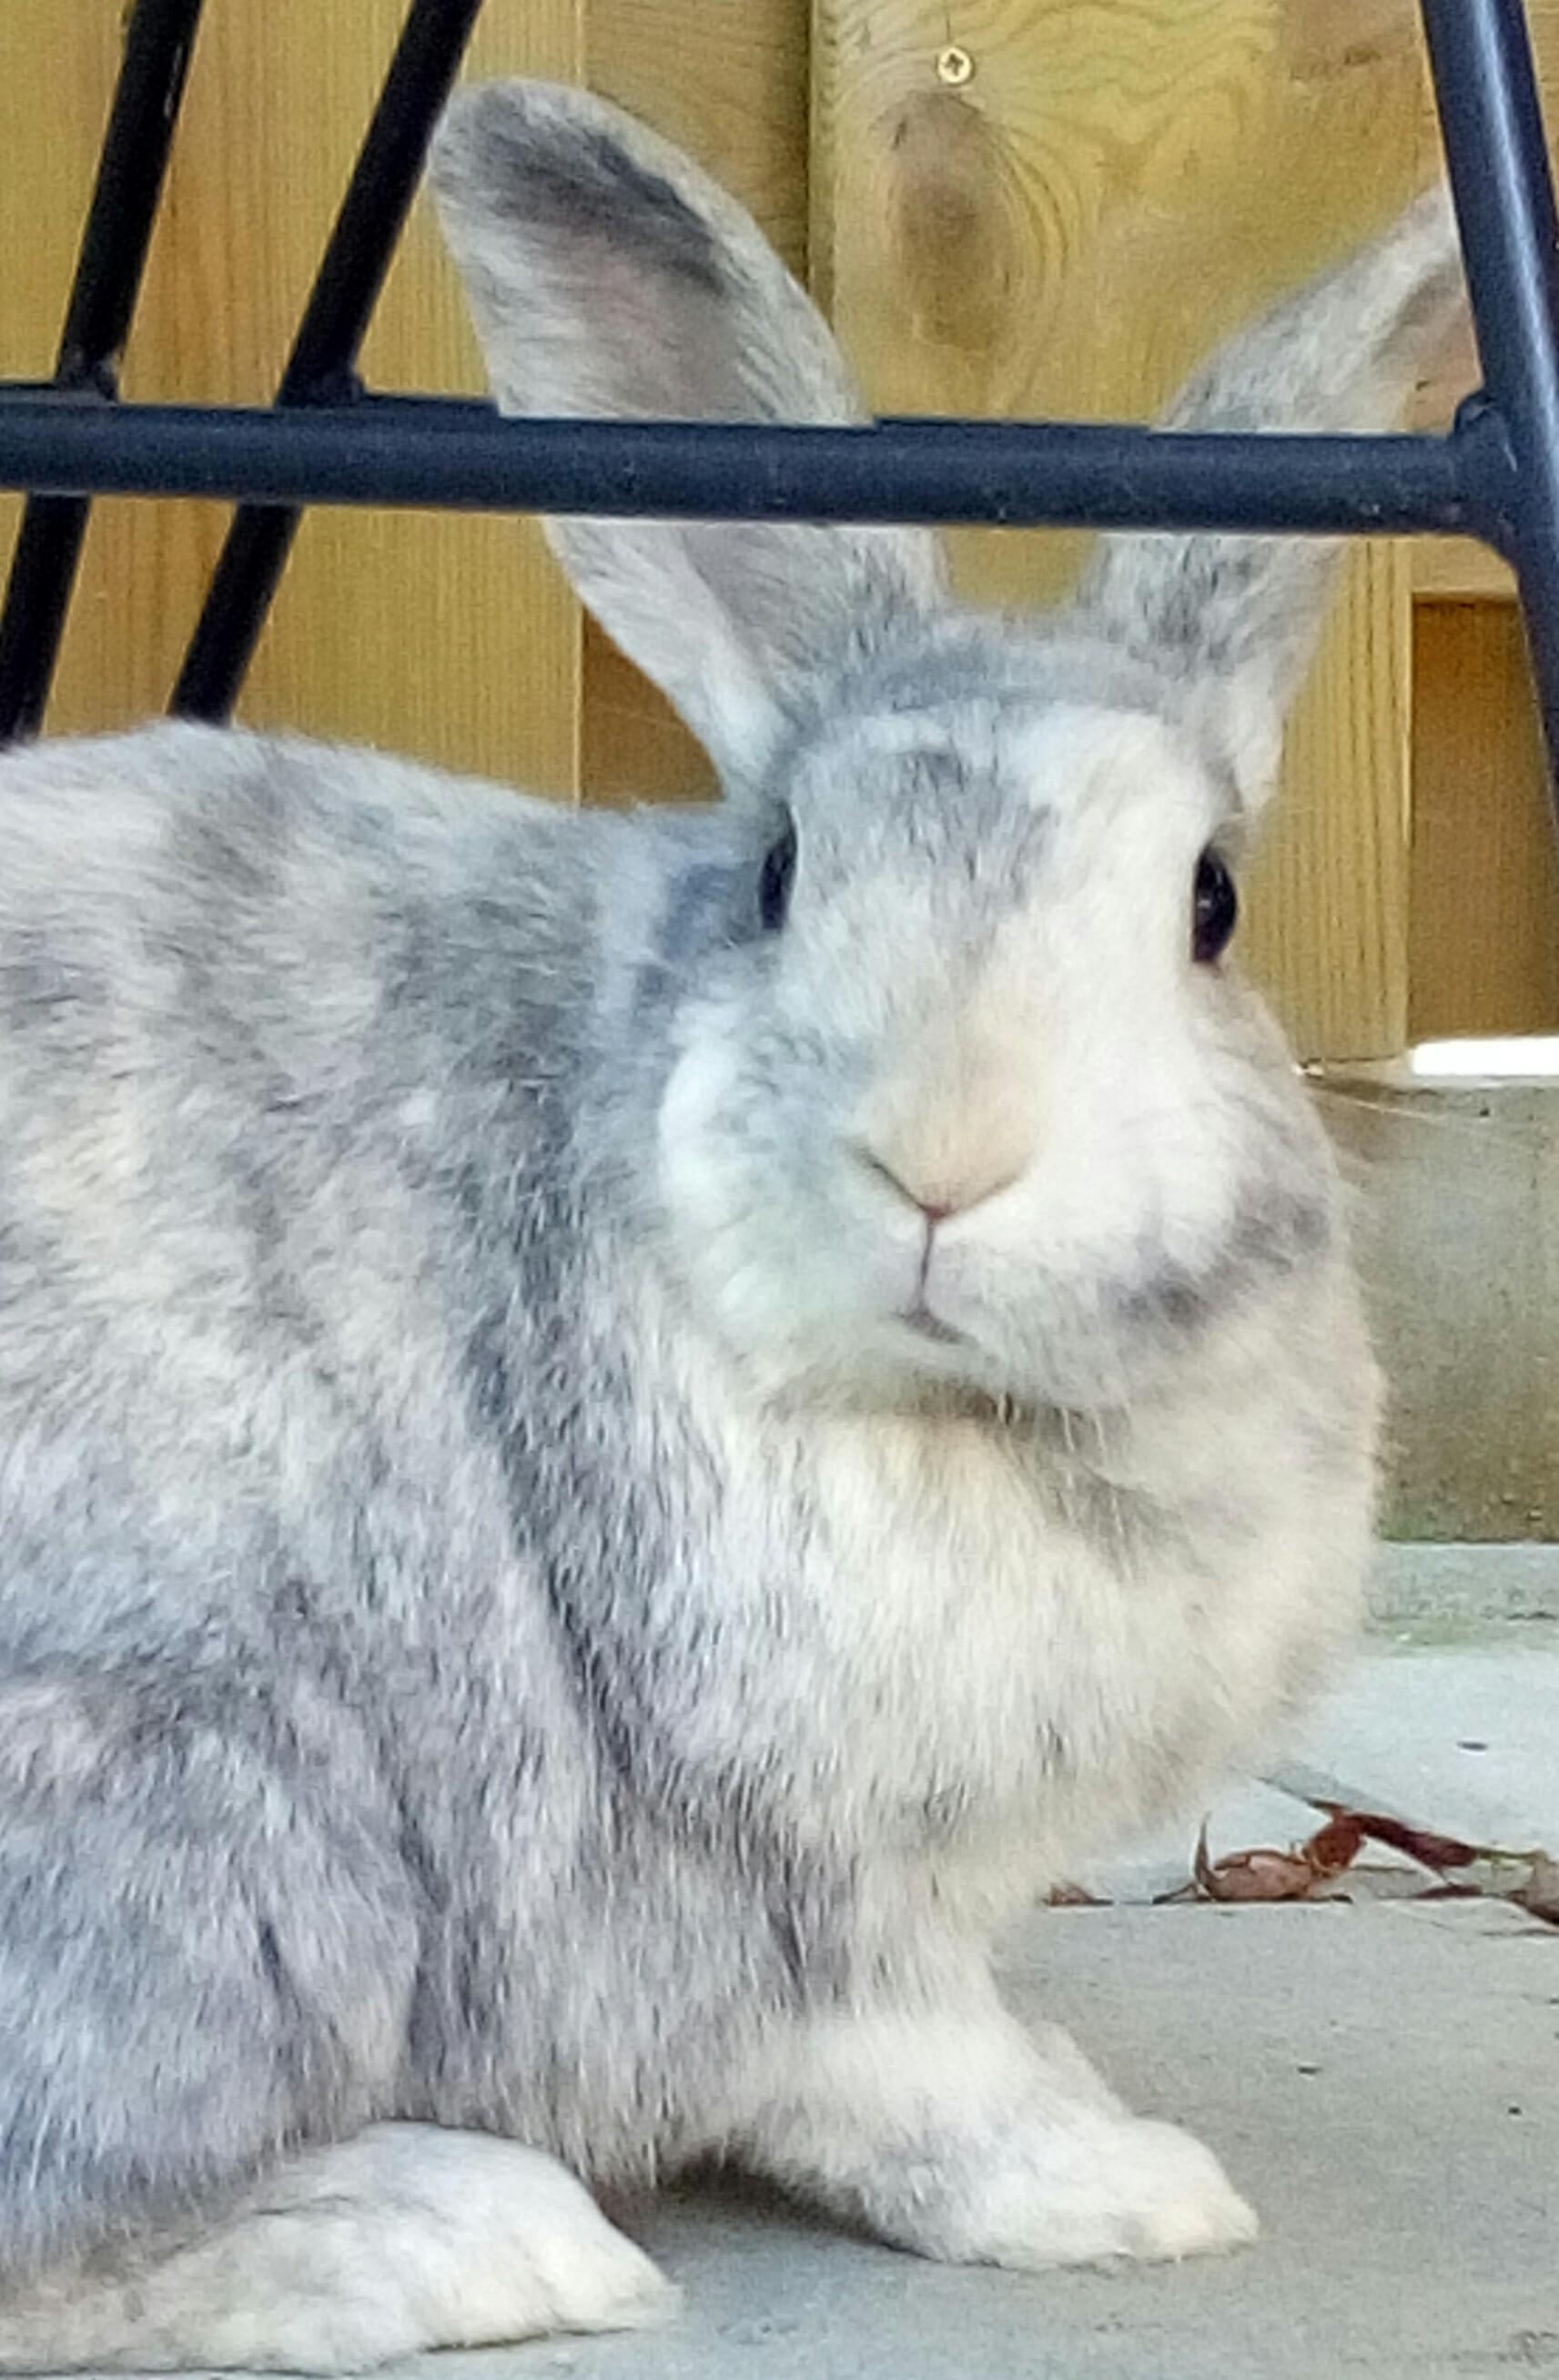bunny: (9, 68, 1557, 2347)
